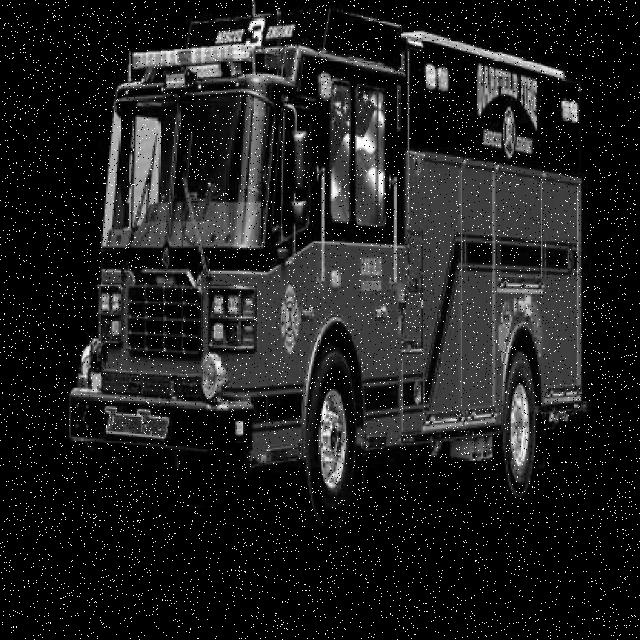Fire Truck: (68, 10, 585, 530)
